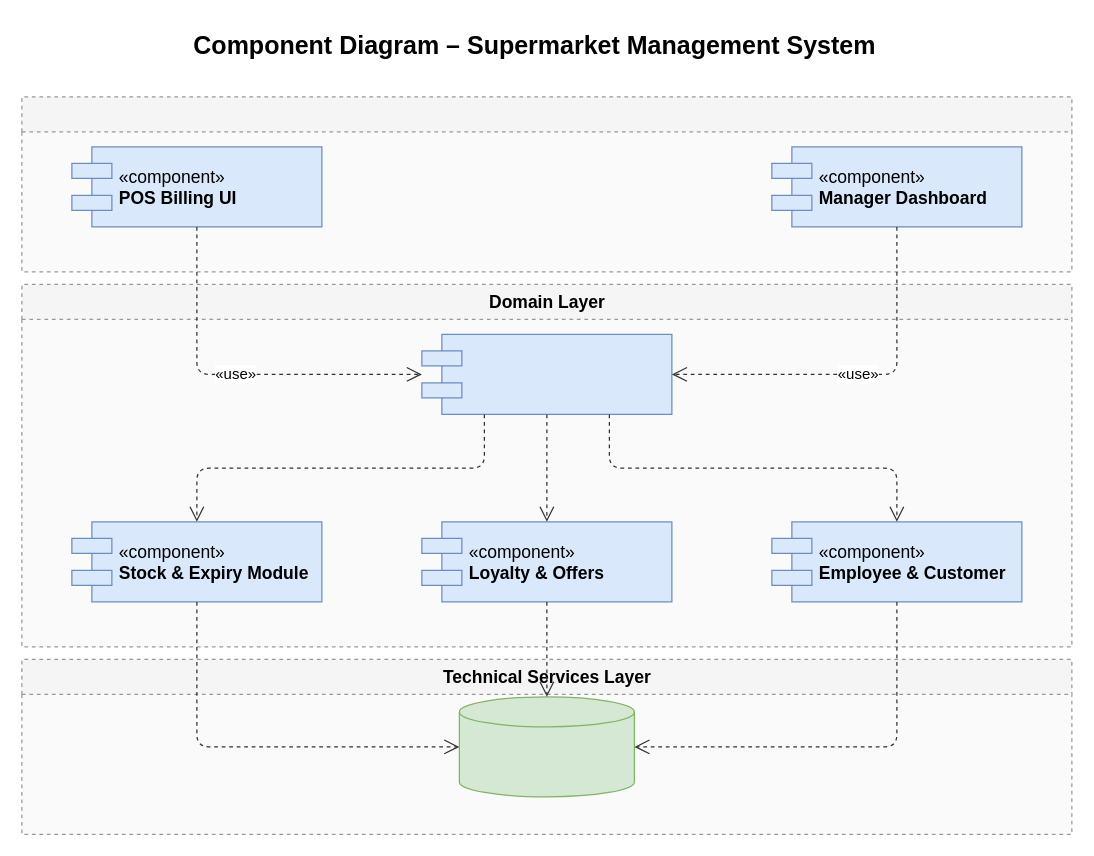
Some shapes in this 1094 by 856 pixel diagram are drawn without their labels. Here are the shapes that lost their labels. From the top down, the box of each, then its label:
(21, 96, 1072, 272): User Interface Layer
(421, 333, 672, 414): «component» Supermarket Management System
(458, 696, 634, 797): Supermarket DB
